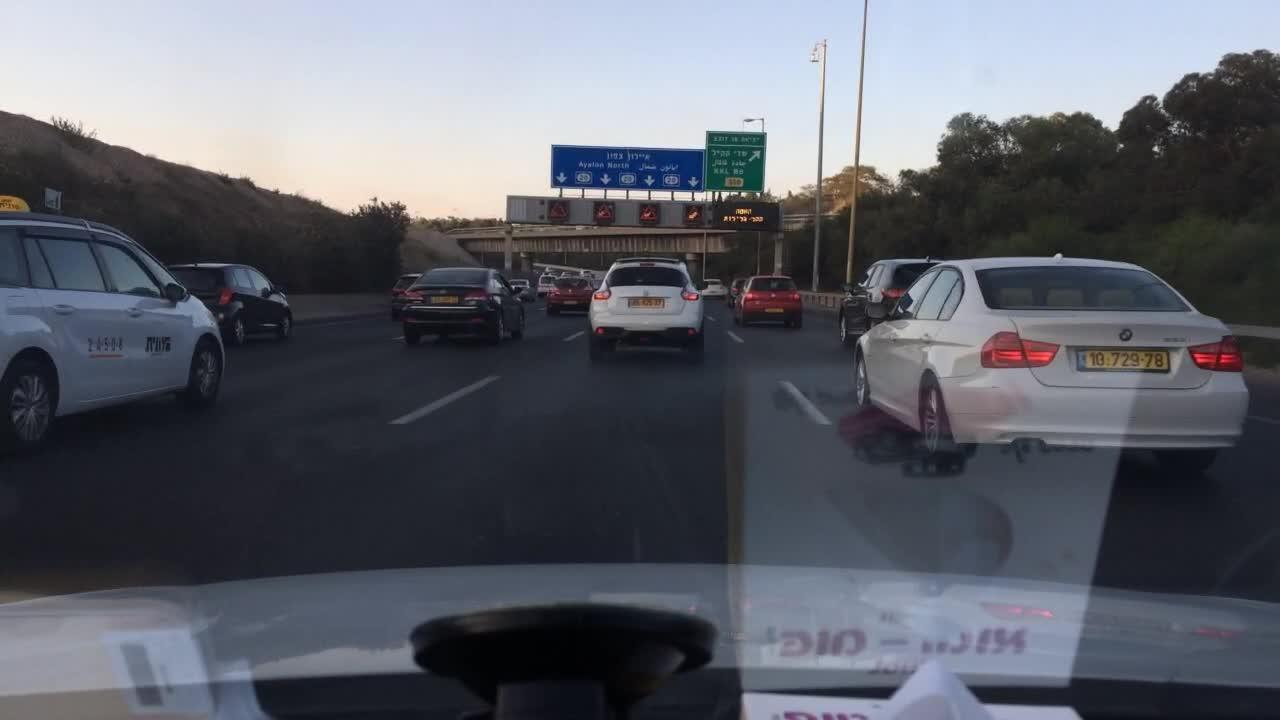bmw: (1111, 318, 1145, 350)
